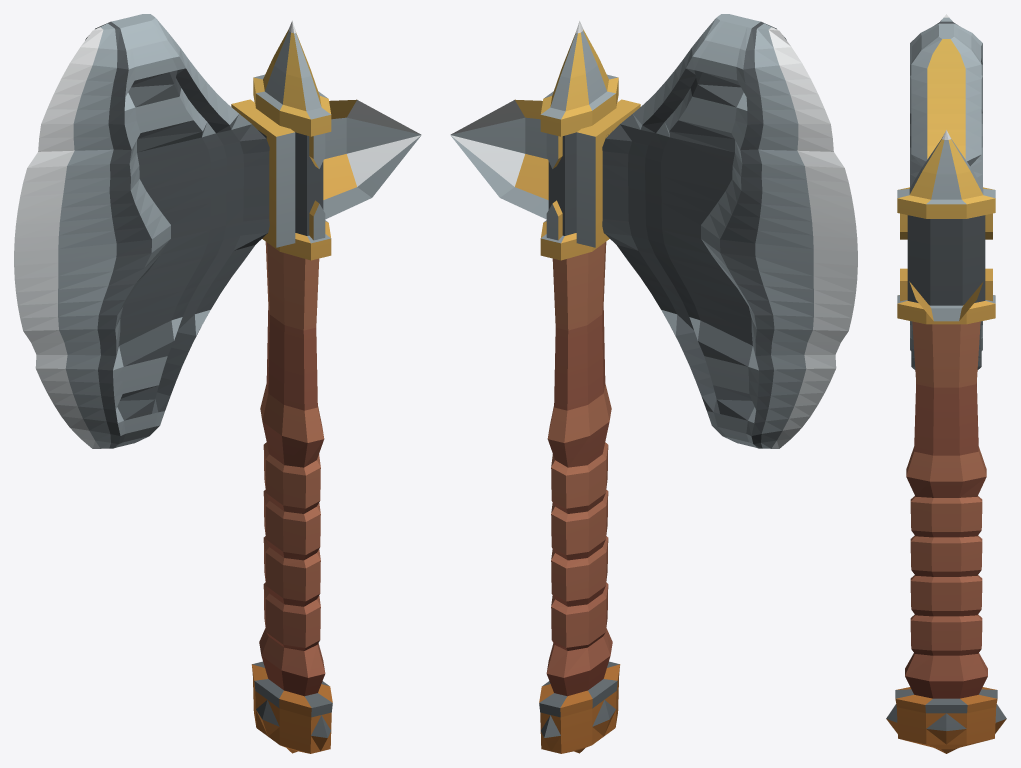
The model's file is source.glb.
The picture shows the model from 3 angles, left to right: view 1: azimuth 30°, elevation 25°; view 2: azimuth 150°, elevation 25°; view 3: azimuth 270°, elevation 25°; orthographic projection. The views are drawn at different scales.
Visible parts, largest first — view 1: model; view 2: model; view 3: model.
Part boxes in pixels (x1=…): model: x1=14, y1=14, x2=421, y2=753; model: x1=450, y1=14, x2=857, y2=753; model: x1=886, y1=14, x2=1006, y2=753.
Bounding box in the file's own units: 0.73 × 1.32 × 0.22.
1 material, 1 textured.
